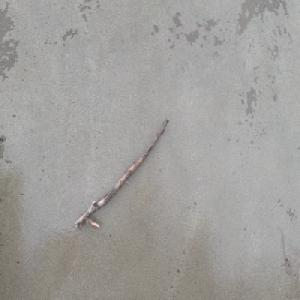Wood: (73, 116, 170, 231)
